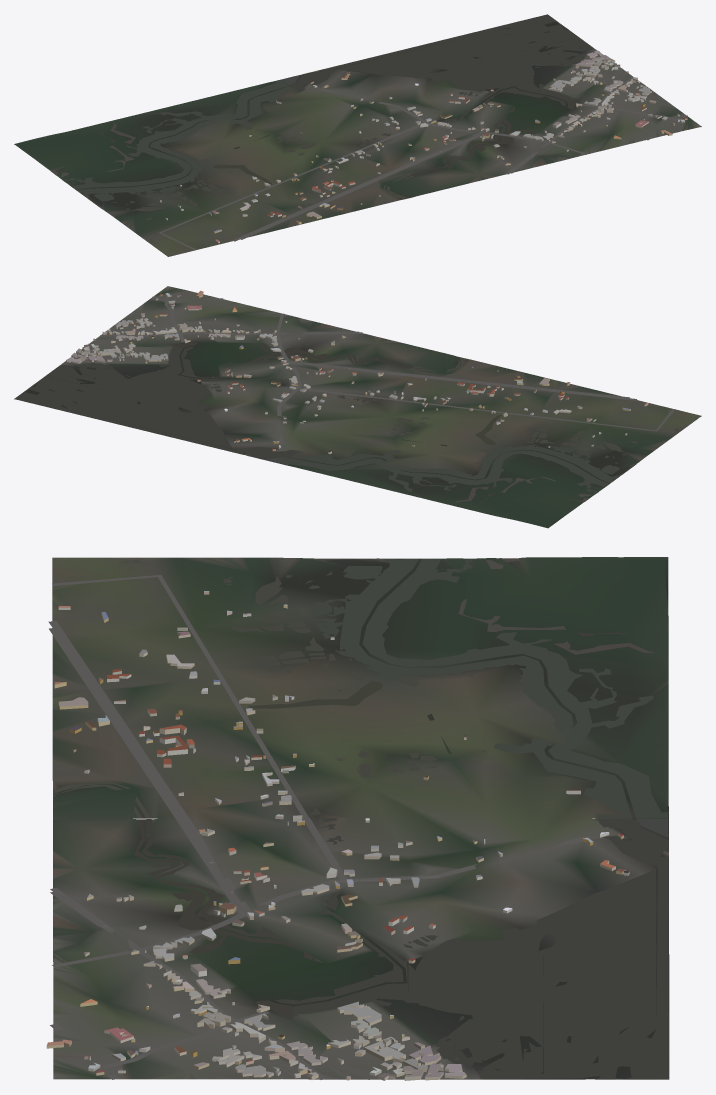
3 renders of one model, top to bottom at view 1: azimuth 30°, elevation 25°; view 2: azimuth 150°, elevation 25°; view 3: azimuth 270°, elevation 25°, orthographic. The views are drawn at different scales.
Parts seen in each view (by area): view 1: ground, water, buildings, roads; view 2: ground, water, buildings, roads; view 3: ground, water, buildings, roads.
Boxes of the visible parts, bbox=[...] form: ground: bbox=[14, 21, 701, 256]; water: bbox=[52, 14, 593, 243]; buildings: bbox=[159, 50, 687, 242]; roads: bbox=[159, 65, 687, 250]; ground: bbox=[14, 286, 701, 528]; water: bbox=[14, 342, 681, 503]; buildings: bbox=[66, 290, 648, 454]; roads: bbox=[88, 296, 674, 444]; ground: bbox=[52, 557, 669, 1079]; water: bbox=[53, 558, 668, 1079]; buildings: bbox=[46, 591, 629, 1080]; roads: bbox=[48, 575, 586, 1079].
Size of the model in its own units: 2810 by 19.21 by 1416.
